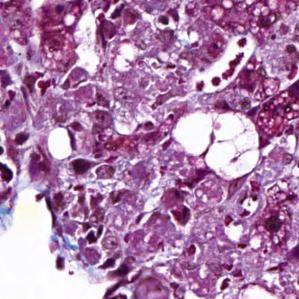ballooning: (170, 108, 262, 183)
